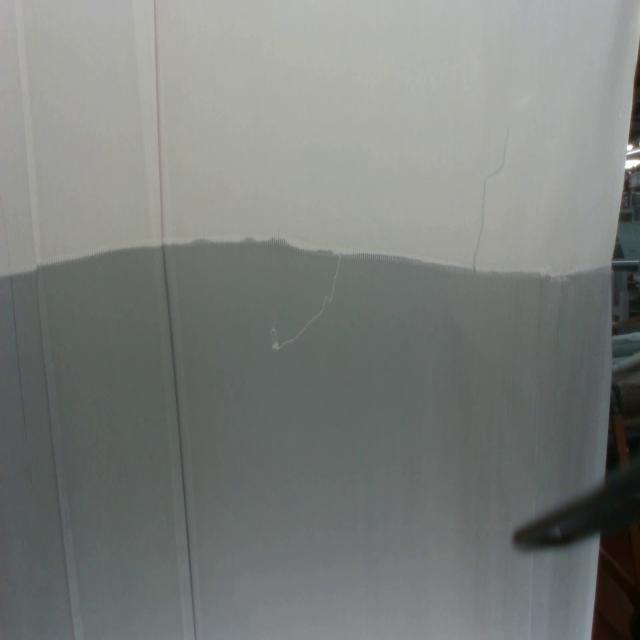crease: (133, 2, 200, 640), (18, 1, 80, 640), (0, 193, 29, 434)
